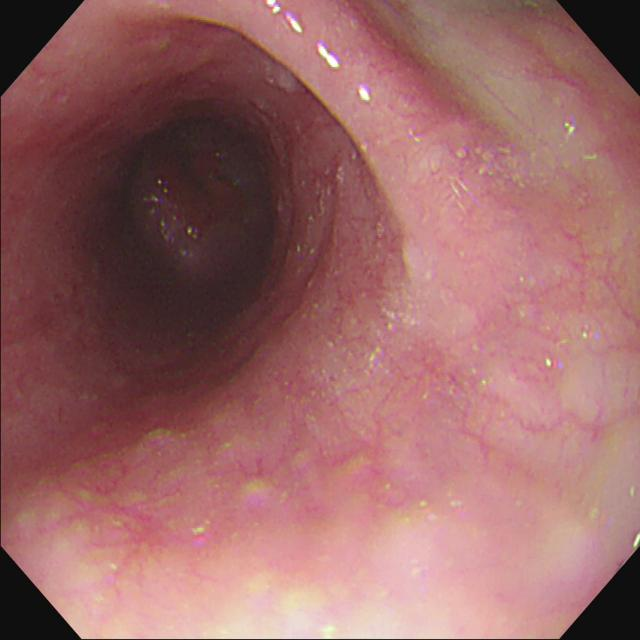I: (137, 114, 273, 294)
U: (267, 2, 306, 40), (316, 35, 343, 74), (352, 73, 379, 112)
